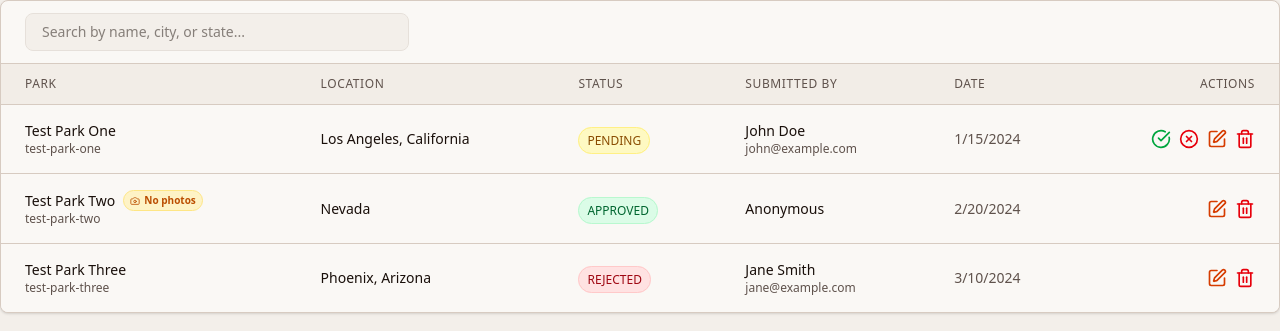
it: ParkManagementTable › should disable buttons while processing
Click the button titled "Approve": (1161, 139) top-left (1151, 129), bottom-right (1171, 149)
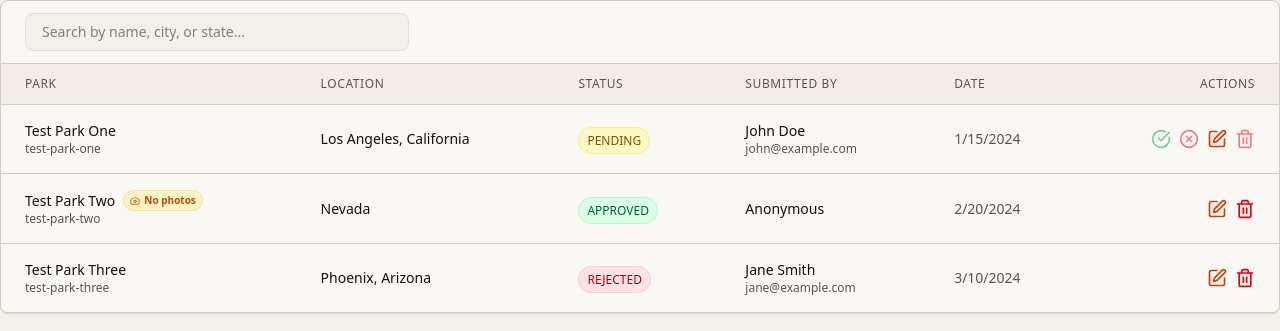
Result: the button titled "Approve" is disabled at top-left (1151, 129), bottom-right (1171, 149)
Result: the button titled "Reject" is disabled at top-left (1179, 129), bottom-right (1199, 149)
